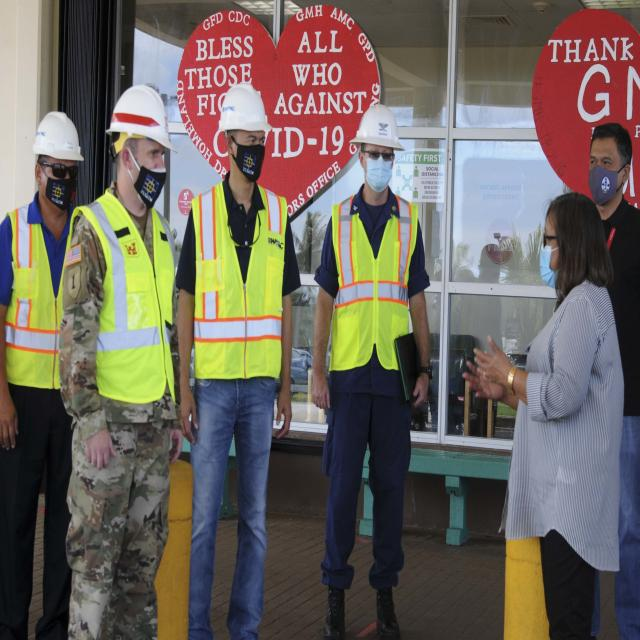helmet: (110, 83, 178, 151), (350, 101, 405, 151), (219, 83, 272, 131), (35, 112, 82, 160)
pants: (188, 383, 276, 640), (326, 376, 409, 593)
vest: (76, 192, 178, 404), (192, 182, 286, 380), (330, 194, 418, 376), (6, 214, 72, 388)
